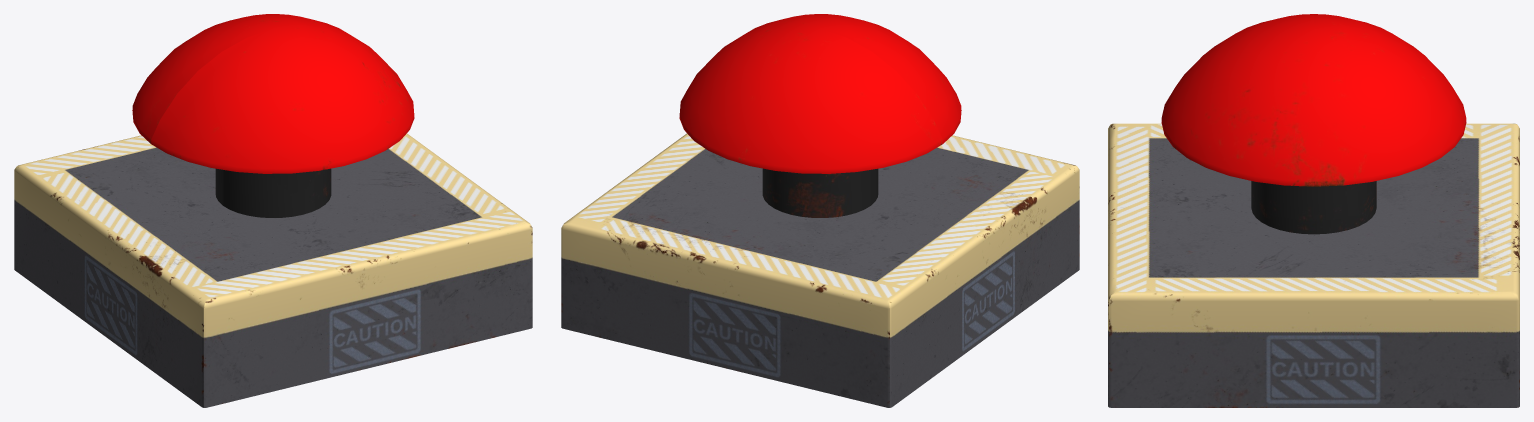
The model's file is botao.obj.
3 renders of one model, left to right at view 1: azimuth 30°, elevation 25°; view 2: azimuth 150°, elevation 25°; view 3: azimuth 270°, elevation 25°, orthographic. The views are drawn at different scales.
Parts seen in each view (by area): view 1: defaultMaterial_1; view 2: defaultMaterial_1; view 3: defaultMaterial_1.
Boxes of the visible parts, box(x1,y1,x2,y2) form: defaultMaterial_1: box(14, 14, 532, 407); defaultMaterial_1: box(561, 14, 1079, 407); defaultMaterial_1: box(1108, 14, 1519, 407).
Size of the model in its own units: 45.95 by 35.85 by 45.95.
